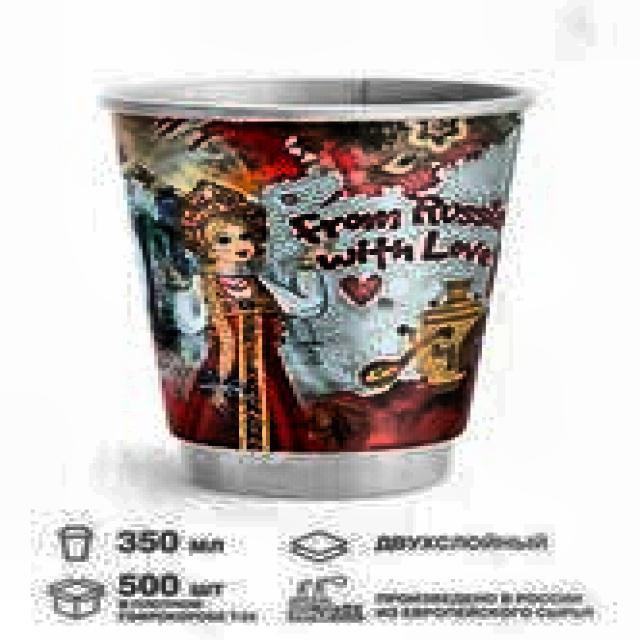Cup: (97, 54, 547, 507)
